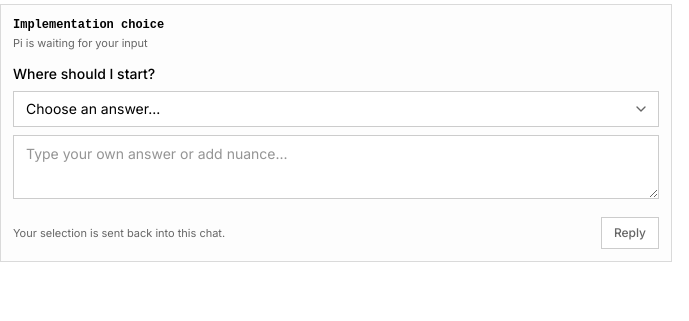
AskUserToolCard › submits a dropdown answer as a chat reply
Select "UI polish" in the dropdown named "Answer Scope" at (336, 109), box x1=13 y1=91 x2=659 y2=127
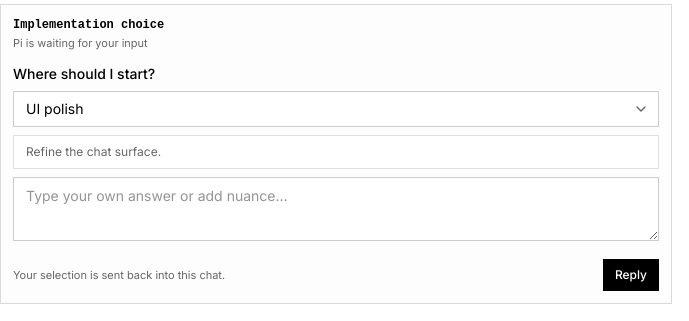
Click the button "Reply" at (631, 275), box x1=603 y1=259 x2=659 y2=291
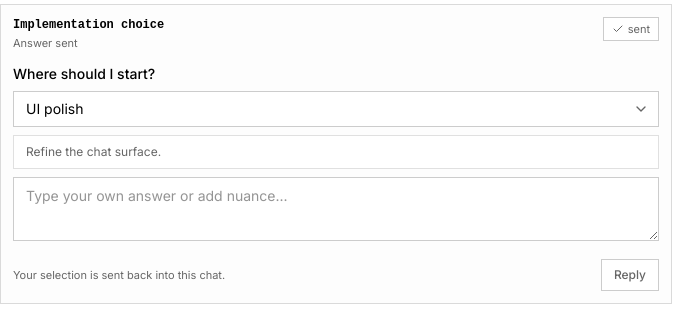
expect the text "sent" is shown: met, box x1=603 y1=17 x2=659 y2=41
